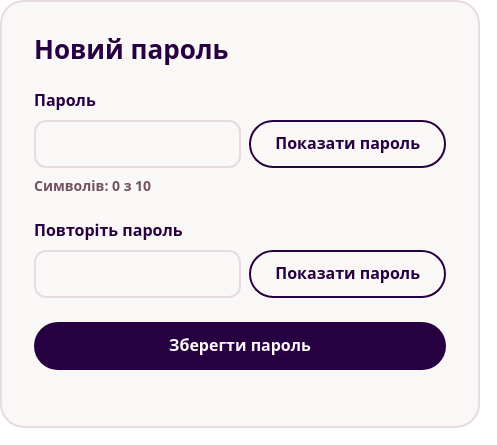
Test: the reset page › shows the live length while typing, as «Символів: {count} з 10»
Expected: the text "Символів: 0 з 10" is shown, [34,176,151,195]
In the password field labelled "Пароль": (138, 144) [34,120,241,168], type "ґанок🇺🇦"
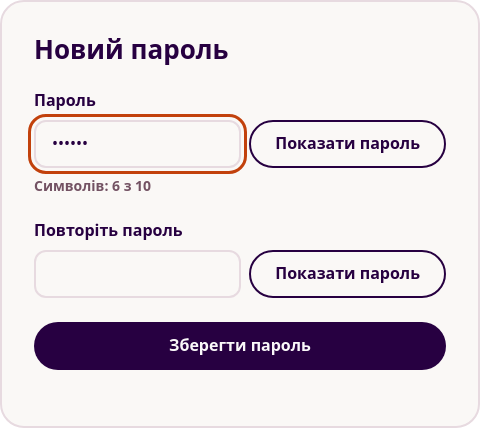
Result: the text "Символів: 6 з 10" is shown at [34,176,151,195]
